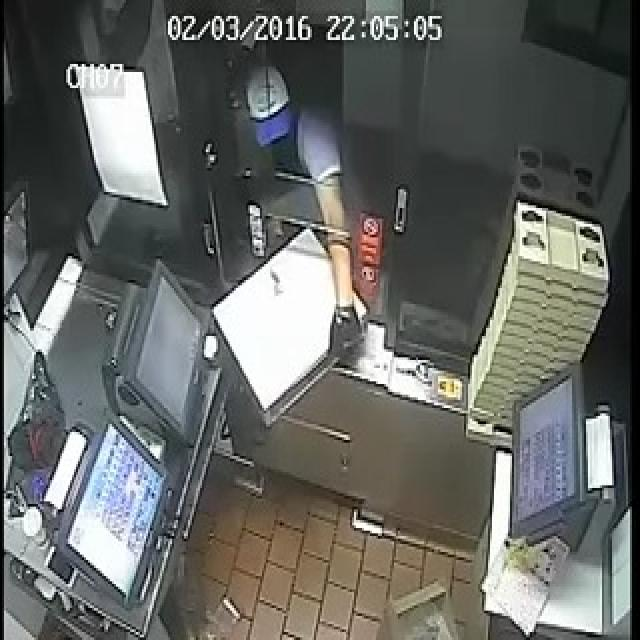thief: (239, 52, 391, 261)
